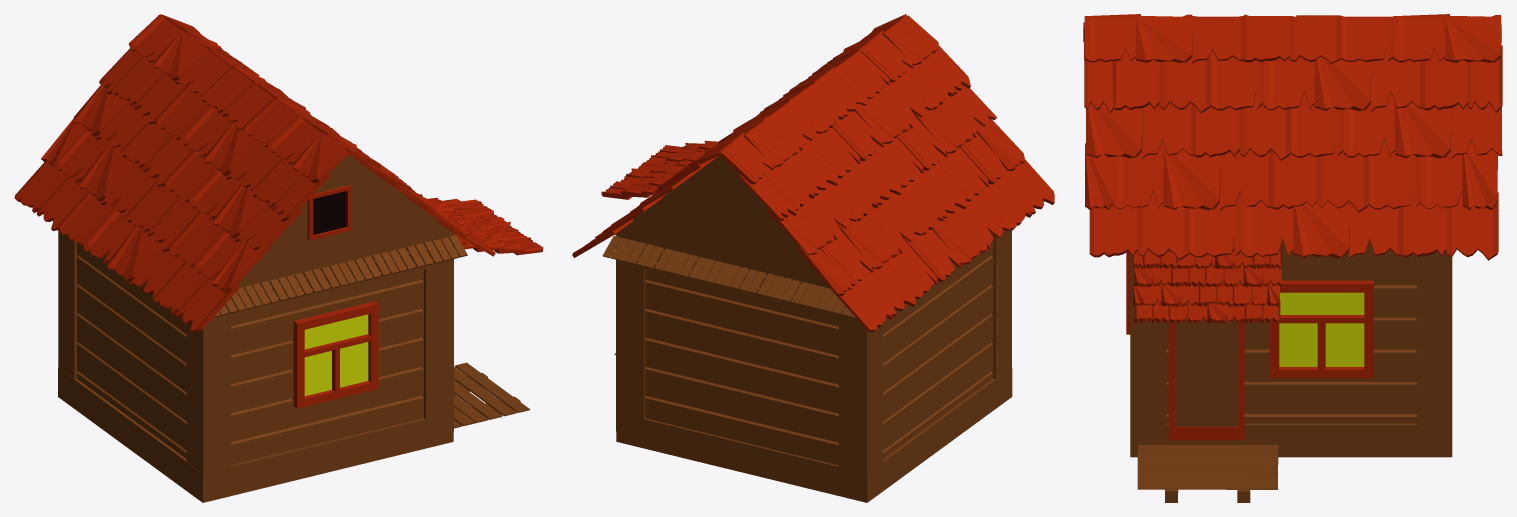
File: izba2.fbx
3 views of the same model, side by side, from view 1: azimuth 30°, elevation 25°; view 2: azimuth 150°, elevation 25°; view 3: azimuth 270°, elevation 25° (orthographic). The views are drawn at different scales.
Parts seen in each view (by area): view 1: Cube.002, Grid.008, Grid.007, Grid.003, Grid.006; view 2: Cube.002, Grid.008; view 3: Grid.008, Cube.002, Grid.007, Grid.003.
Part boxes in pixels (<box>): Cube.002: <box>58,155,529,502</box>; Grid.008: <box>14,14,543,332</box>; Grid.007: <box>292,185,378,408</box>; Grid.003: <box>304,314,368,396</box>; Grid.006: <box>313,191,346,234</box>; Cube.002: <box>602,155,1012,502</box>; Grid.008: <box>572,14,1054,332</box>; Grid.008: <box>1083,14,1502,323</box>; Cube.002: <box>1130,92,1472,502</box>; Grid.007: <box>1126,251,1373,440</box>; Grid.003: <box>1279,292,1364,366</box>.
Bounding box in the file's own units: 2666 × 2312 × 2343.
